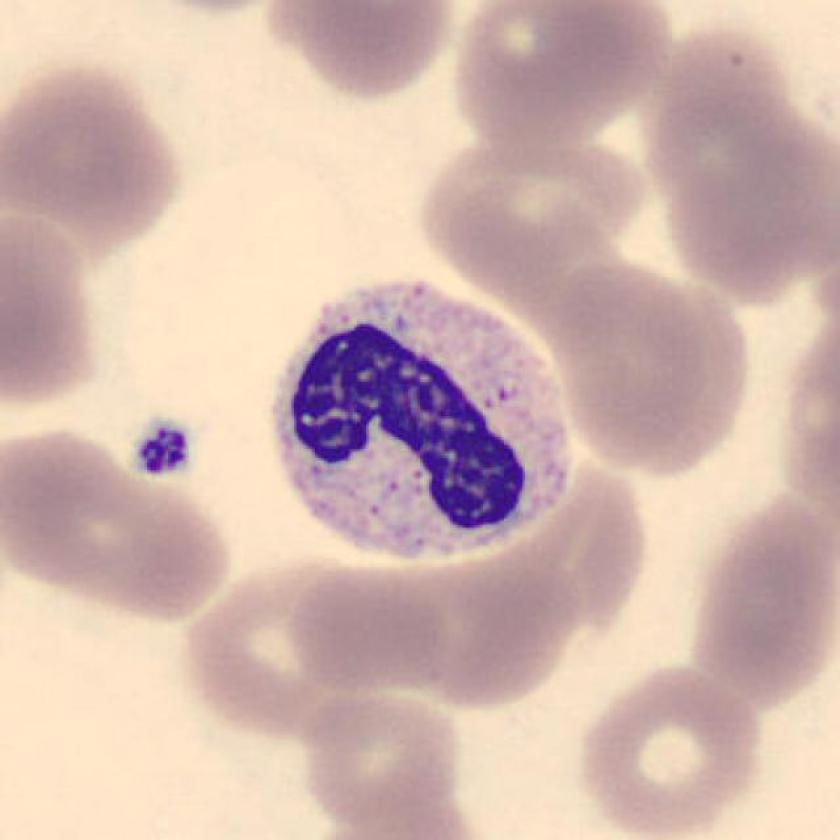neutrophil: (271, 281, 576, 560)
